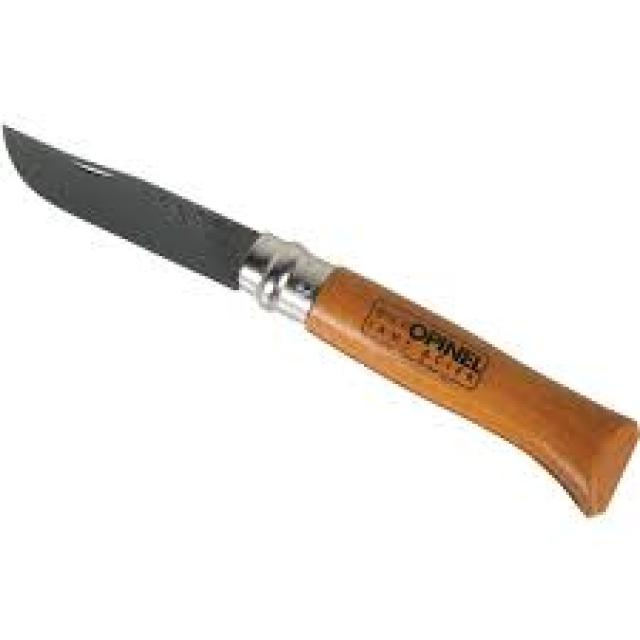knife: (4, 109, 640, 524)
